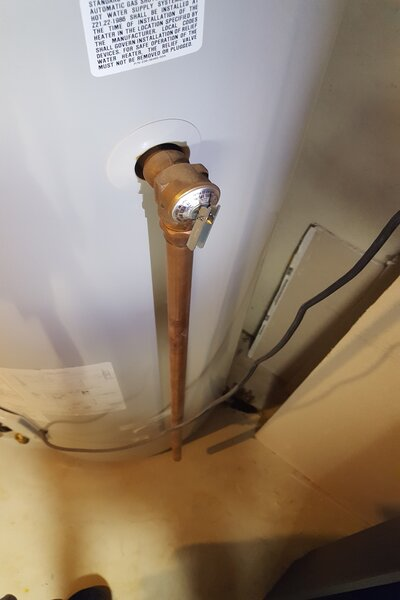valve: (134, 143, 222, 263)
